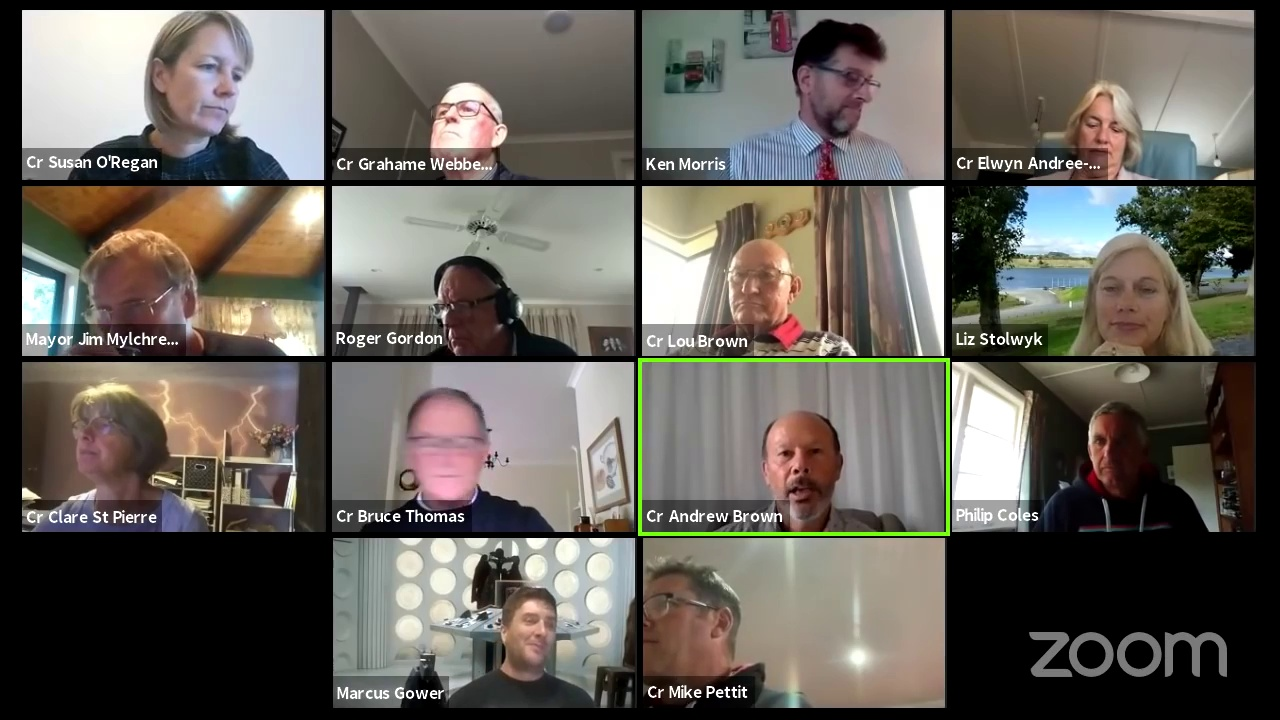Distracted: (153, 20, 242, 128), (60, 392, 162, 479), (793, 32, 876, 135), (643, 568, 720, 675), (433, 269, 504, 356), (429, 80, 494, 161), (1070, 85, 1130, 171)
Not Distracted: (90, 251, 189, 343), (760, 416, 844, 517), (402, 394, 484, 494), (1086, 261, 1171, 343), (1083, 408, 1152, 489), (724, 247, 794, 325), (497, 597, 560, 669)
